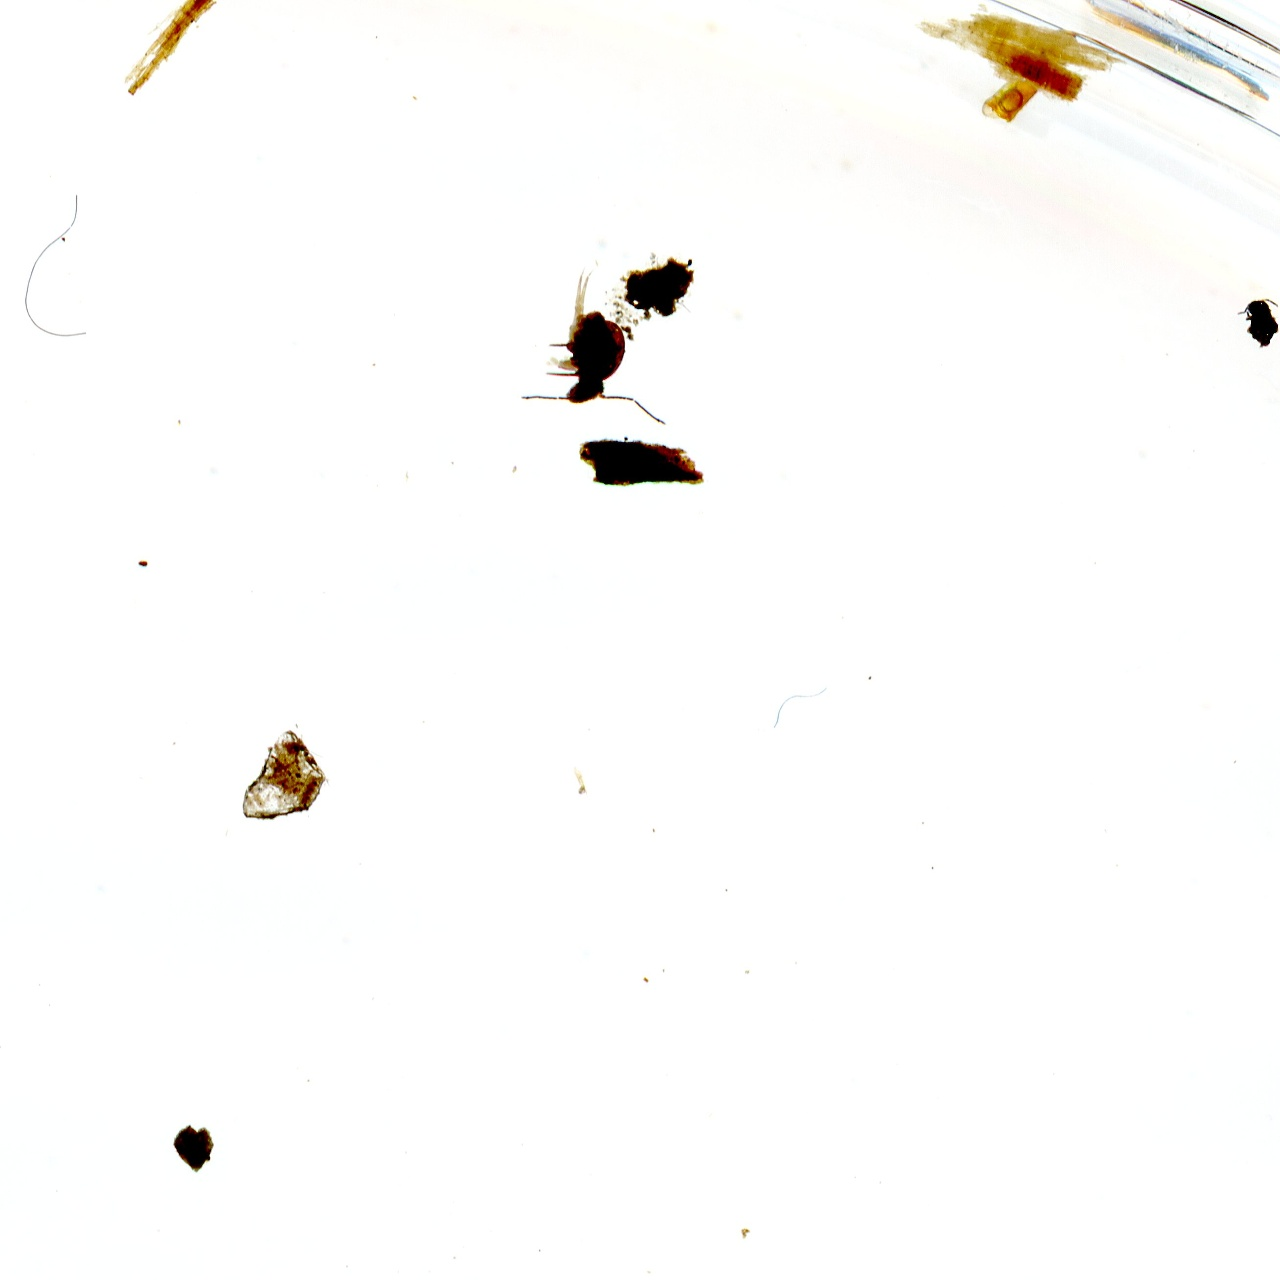arthropod: (514, 265, 669, 431), (1236, 295, 1280, 350)
